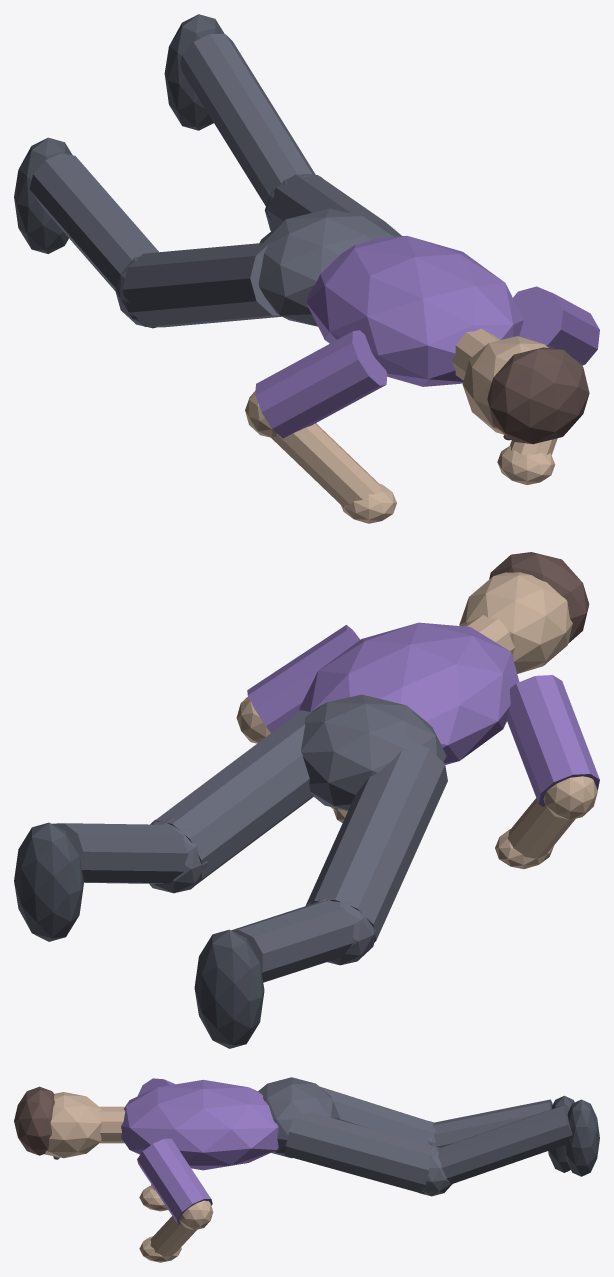
3 views of the same model, one above another, from view 1: azimuth 30°, elevation 25°; view 2: azimuth 150°, elevation 25°; view 3: azimuth 270°, elevation 25° (orthographic). The views are drawn at different scales.
Parts seen in each view (by area): view 1: world; view 2: world; view 3: world.
Boxes of the visible parts, x1,y1,x2,y2 form: world: (14, 14, 599, 523); world: (14, 552, 599, 1048); world: (14, 1077, 599, 1262).
Size of the model in its own units: 0.93 by 0.6103 by 2.06.
